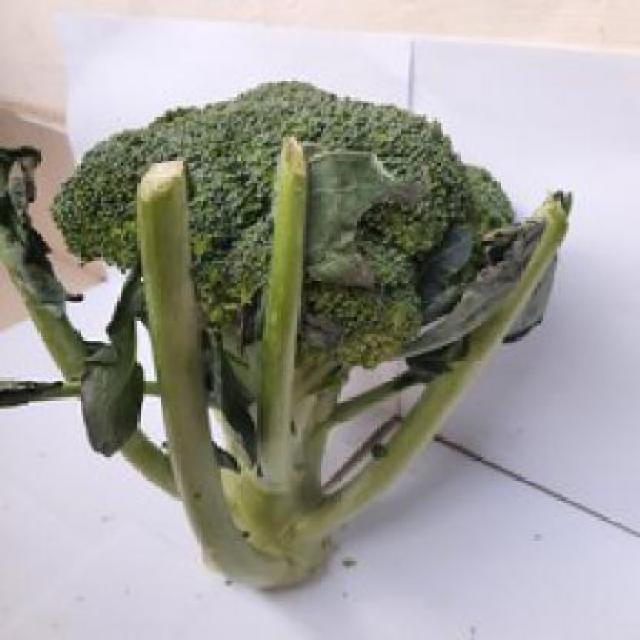broccoli: (49, 80, 534, 586)
